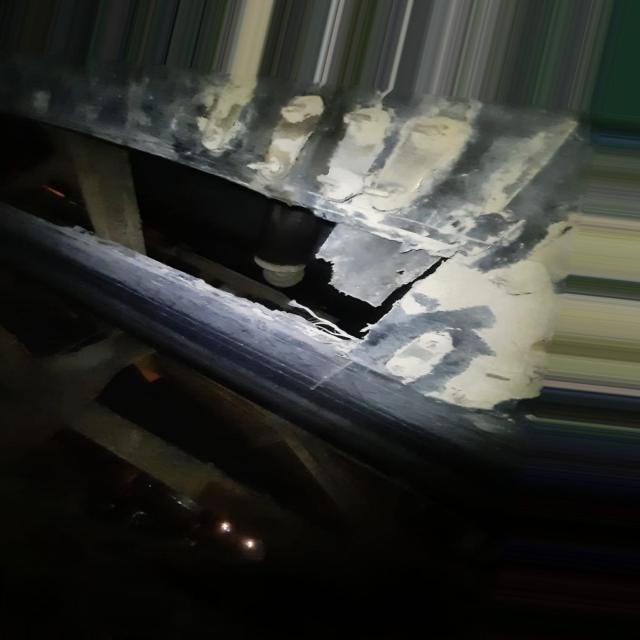Hole: (8, 112, 462, 340)
